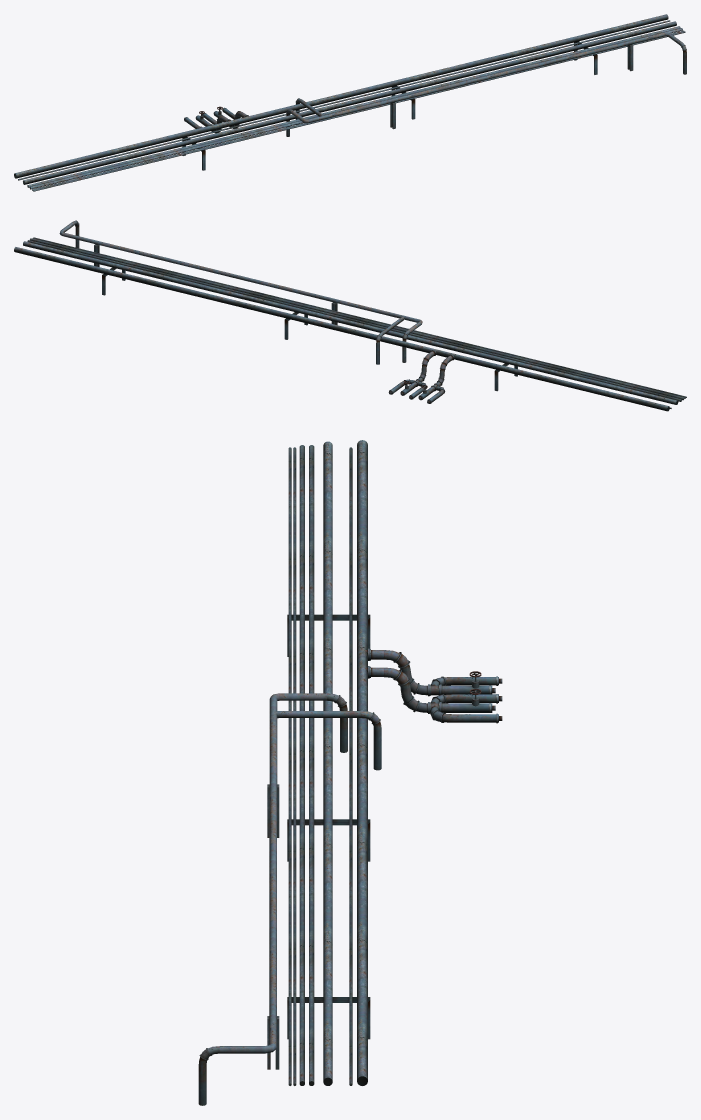
Rendered from oil_pipes.glb.
3 views of the same model, one above another, from view 1: azimuth 30°, elevation 25°; view 2: azimuth 150°, elevation 25°; view 3: azimuth 270°, elevation 25° (orthographic). The views are drawn at different scales.
Parts seen in each view (by area): view 1: 0_oil_pipes; view 2: 0_oil_pipes; view 3: 0_oil_pipes.
Part boxes in pixels (bbox=[...]): 0_oil_pipes: bbox=[14, 14, 686, 191]; 0_oil_pipes: bbox=[14, 220, 686, 411]; 0_oil_pipes: bbox=[198, 440, 502, 1105].
Size of the model in its own units: 34.56 by 1.47 by 6.97.
1 material, 1 textured.
